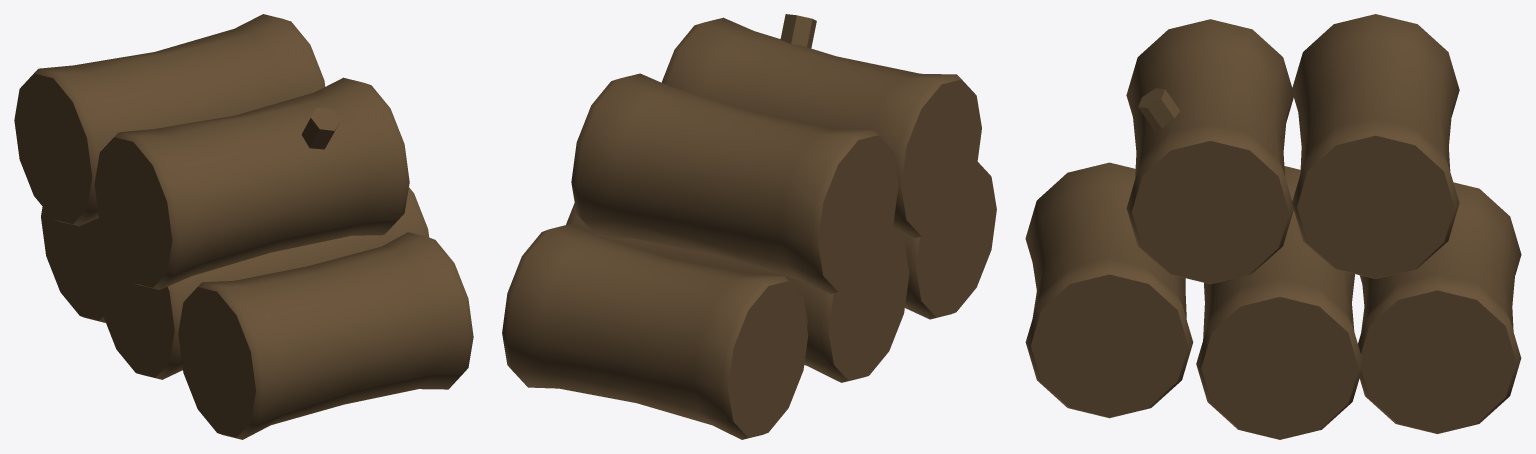
The model's file is WoodStack.fbx.
The picture shows the model from 3 angles, left to right: view 1: azimuth 30°, elevation 25°; view 2: azimuth 150°, elevation 25°; view 3: azimuth 270°, elevation 25°; orthographic projection. The views are drawn at different scales.
Parts seen in each view (by area): view 1: Cylinder.010; view 2: Cylinder.010; view 3: Cylinder.010.
Part boxes in pixels (x1,y1,x2,y2): Cylinder.010: [14, 14, 473, 439]; Cylinder.010: [502, 14, 996, 439]; Cylinder.010: [1025, 14, 1521, 439].
Size of the model in its own units: 0.5496 by 0.5031 by 0.7757.
